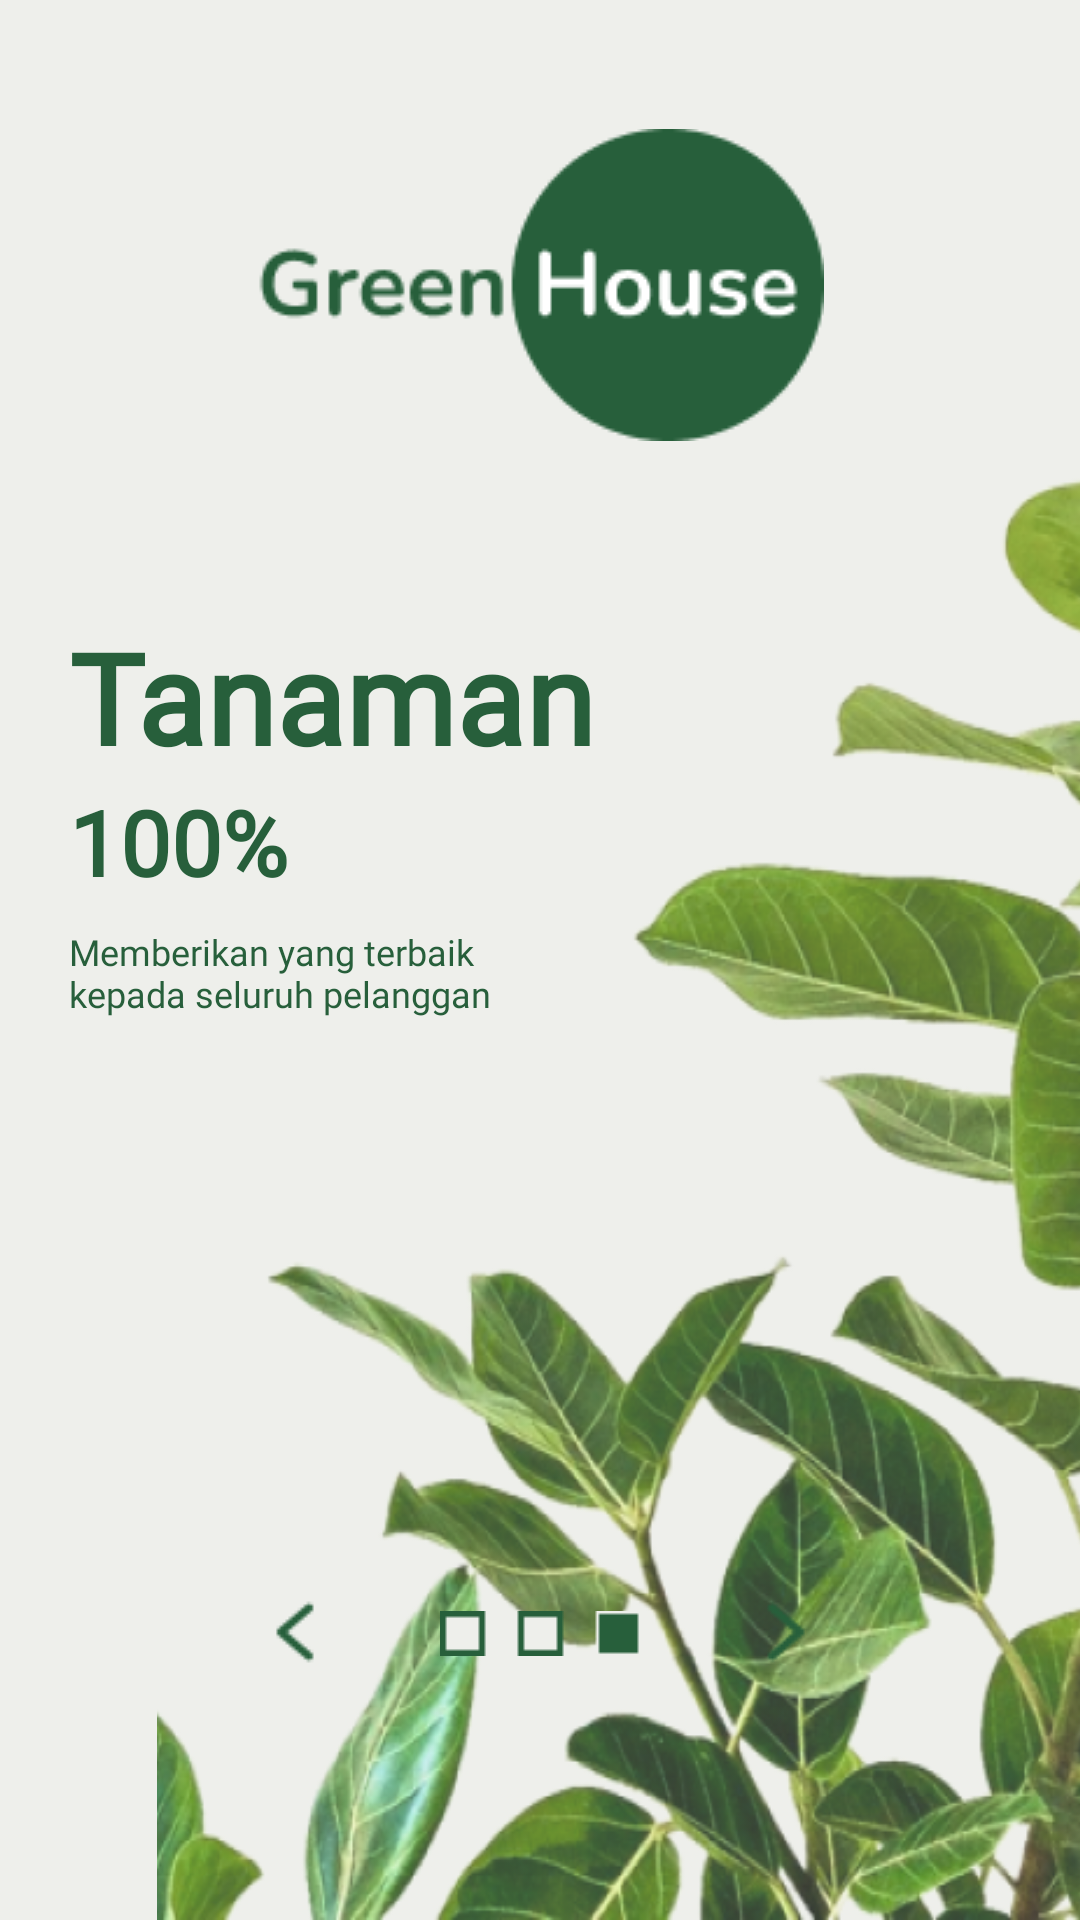

Where to tap for icons on this 1080px×1920px app screen, as point (x, y):
back: point (295, 1632)
